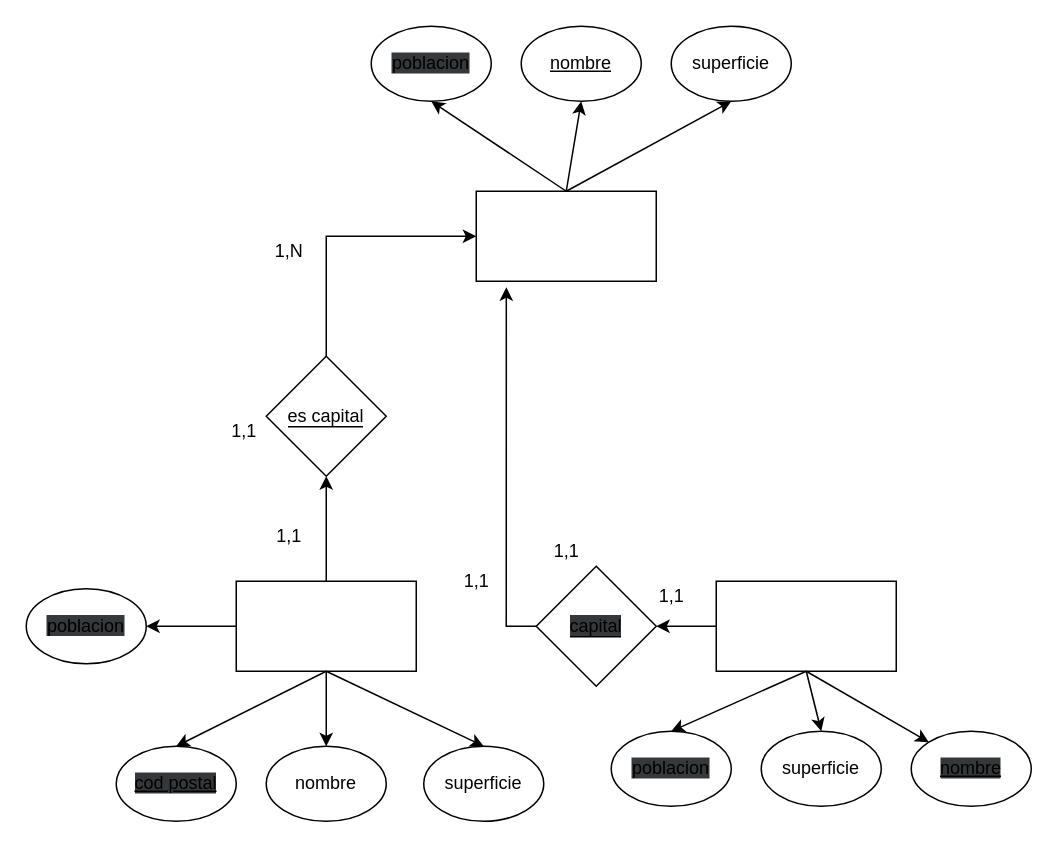
The diagram is 1058 pixels wide and 848 high, and some of its shapes have lost their labels. The centre of each missing label's shape, as x and y in pixels:
"COM. AUTONOMA" goes at pixel 805 625.
"LOCALIDAD" goes at pixel 565 235.
"PROVINCIA" goes at pixel 325 625.
